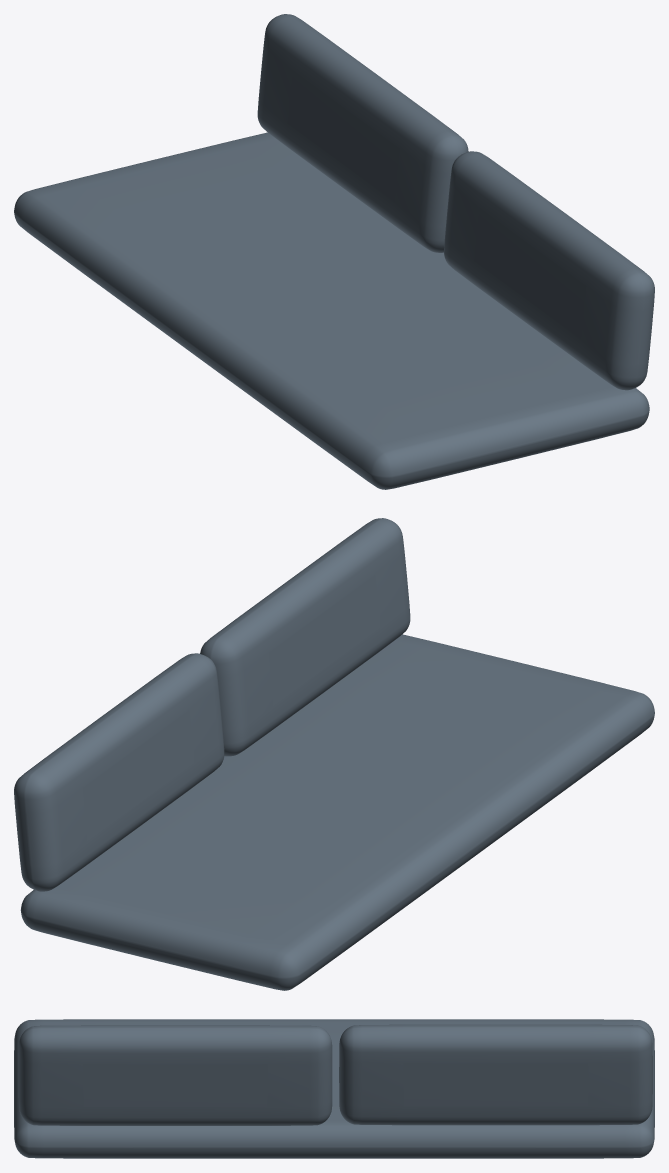
The model's file is the-terrace-pillows-large.fbx.
3 renders of one model, top to bottom at view 1: azimuth 30°, elevation 25°; view 2: azimuth 150°, elevation 25°; view 3: azimuth 270°, elevation 25°, orthographic. The views are drawn at different scales.
Parts seen in each view (by area): view 1: Cube.004; view 2: Cube.004; view 3: Cube.004.
Part boxes in pixels (x1,y1,x2,y2): Cube.004: [14, 14, 654, 489]; Cube.004: [14, 518, 654, 990]; Cube.004: [14, 1019, 654, 1158].
Size of the model in its own units: 146 by 75.4 by 326.
